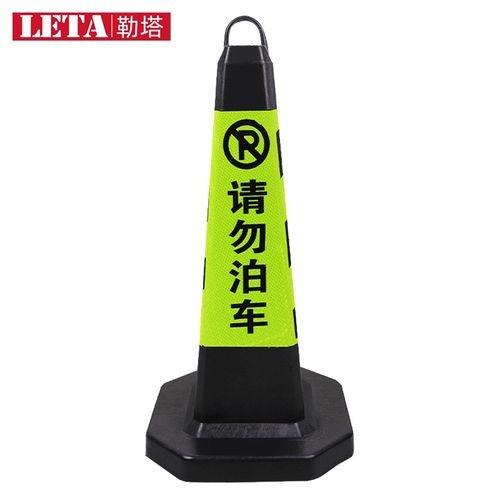cone_barrel: (162, 29, 332, 461)
